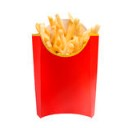frenchfries: (35, 14, 92, 50)
